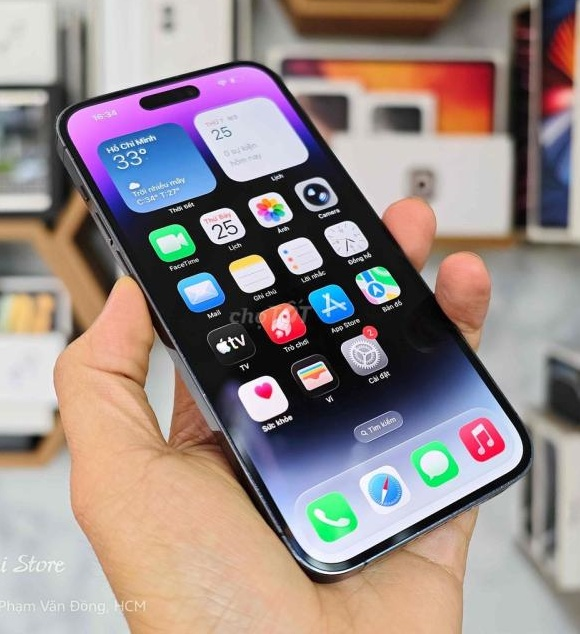scratch: (218, 434, 297, 561)
